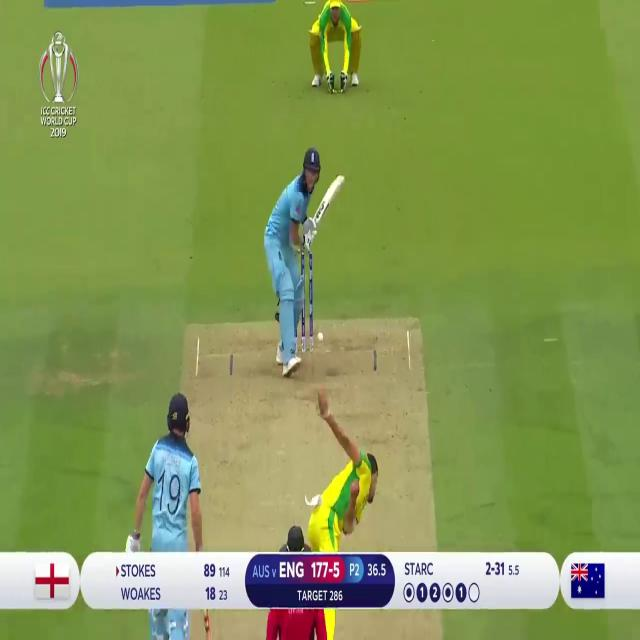ball: (316, 329, 324, 341)
